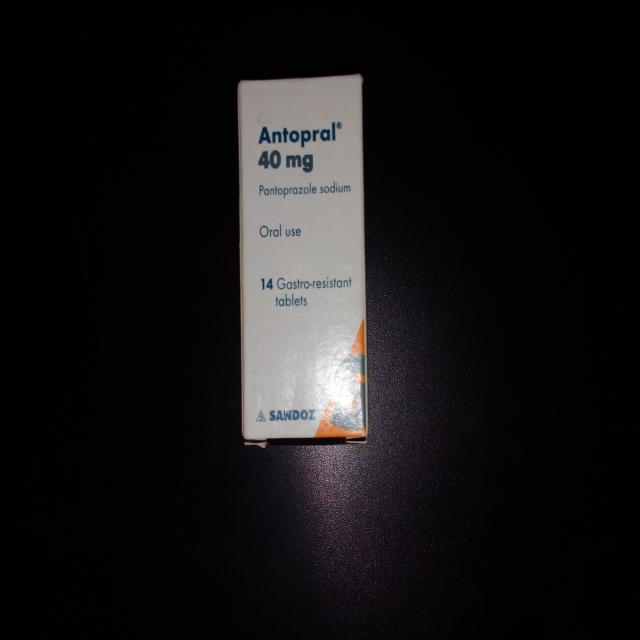Medicine: (234, 69, 372, 444)
